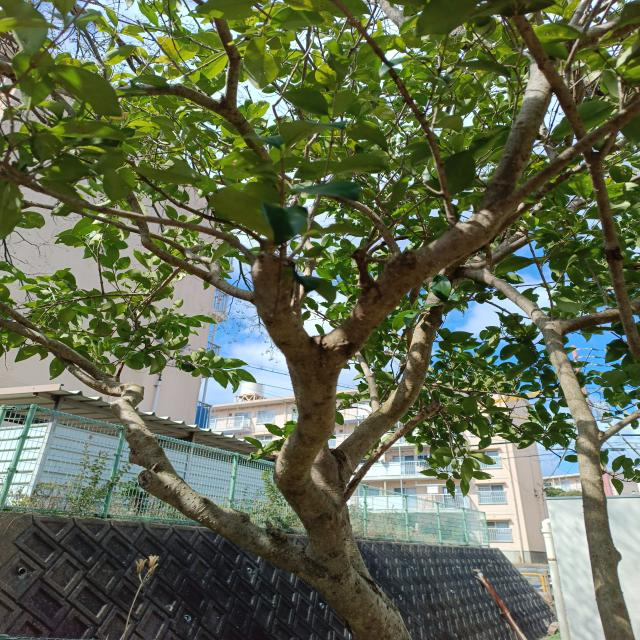Branch: (325, 26, 586, 378), (99, 377, 335, 590), (335, 274, 456, 489), (273, 341, 352, 565), (253, 247, 314, 373)
Twig: (0, 57, 210, 284), (110, 84, 285, 251), (1, 160, 256, 266), (17, 197, 252, 301), (277, 171, 399, 257), (340, 400, 441, 503), (1, 302, 105, 393), (0, 317, 120, 383), (190, 0, 242, 108), (356, 351, 380, 412)
